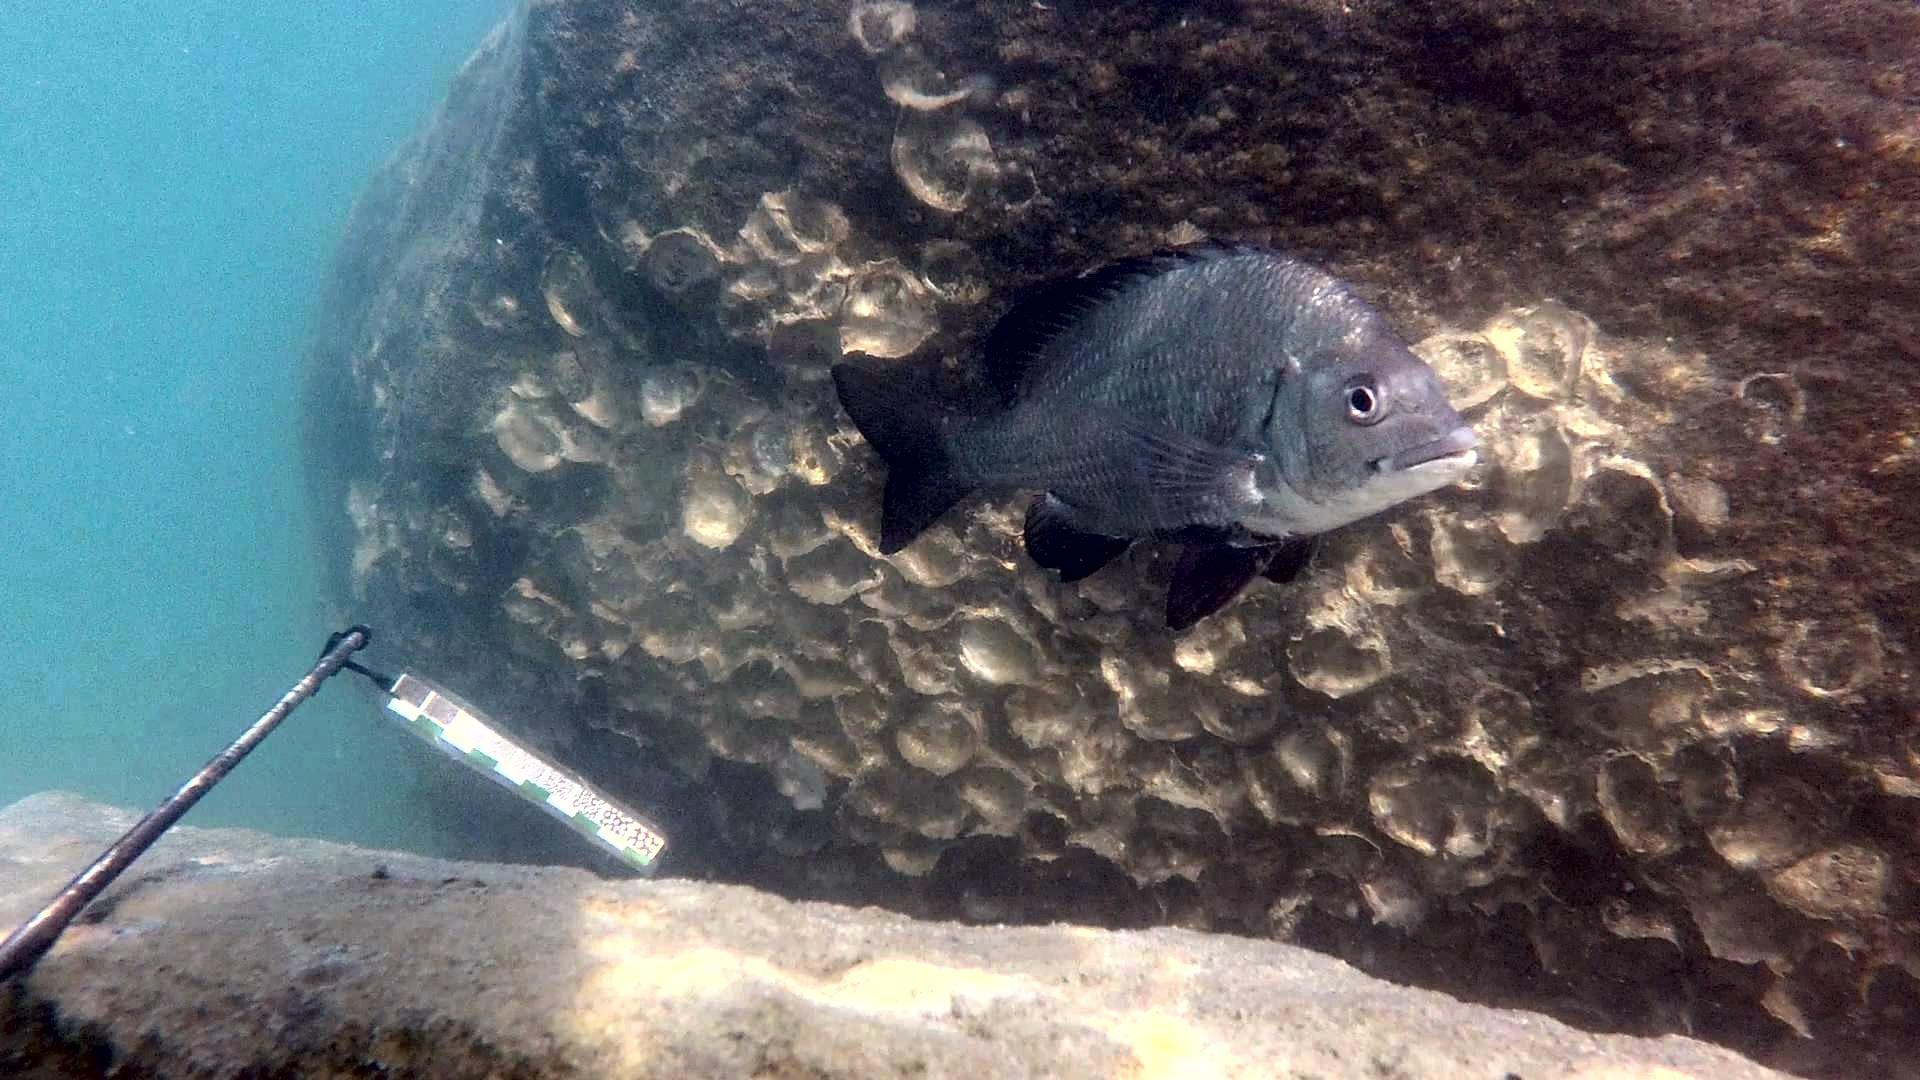acanthopagrus palmaris: (822, 231, 1493, 641)
